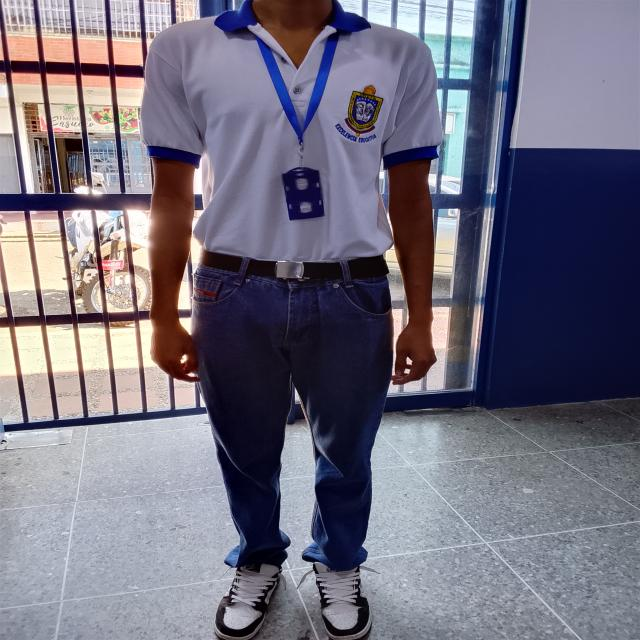carnet: (282, 169, 325, 221)
uniforme_superior: (138, 0, 444, 262)
